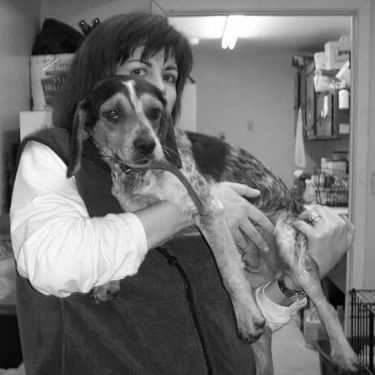dog: (63, 65, 368, 373)
